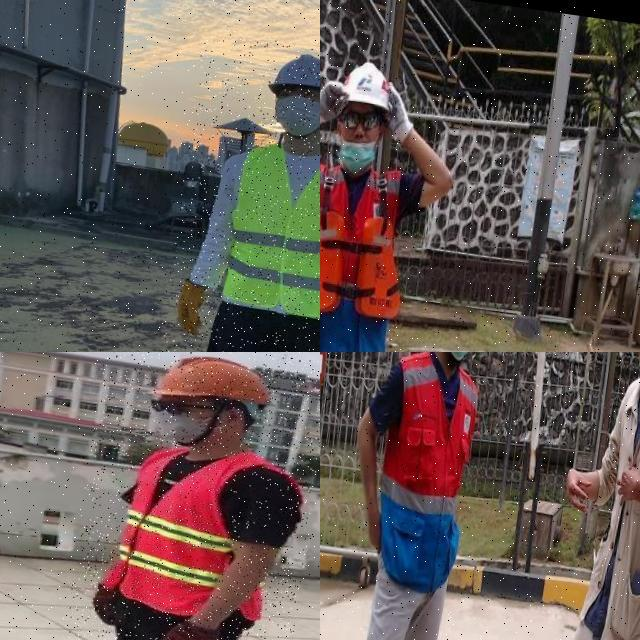helmet: (151, 352, 284, 420), (339, 58, 396, 115), (265, 49, 320, 105)
vest: (105, 436, 287, 623), (367, 352, 488, 593), (320, 155, 417, 352), (220, 136, 320, 322)
